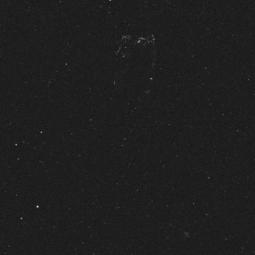lisa_pathfinder: (100, 24, 178, 96)
